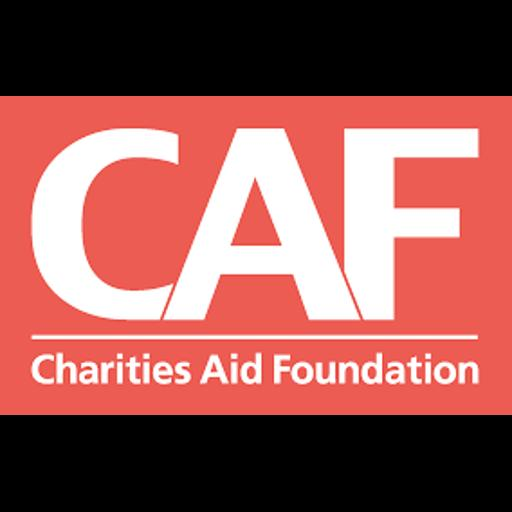Charities Aid Foundation: (0, 96, 512, 415)
